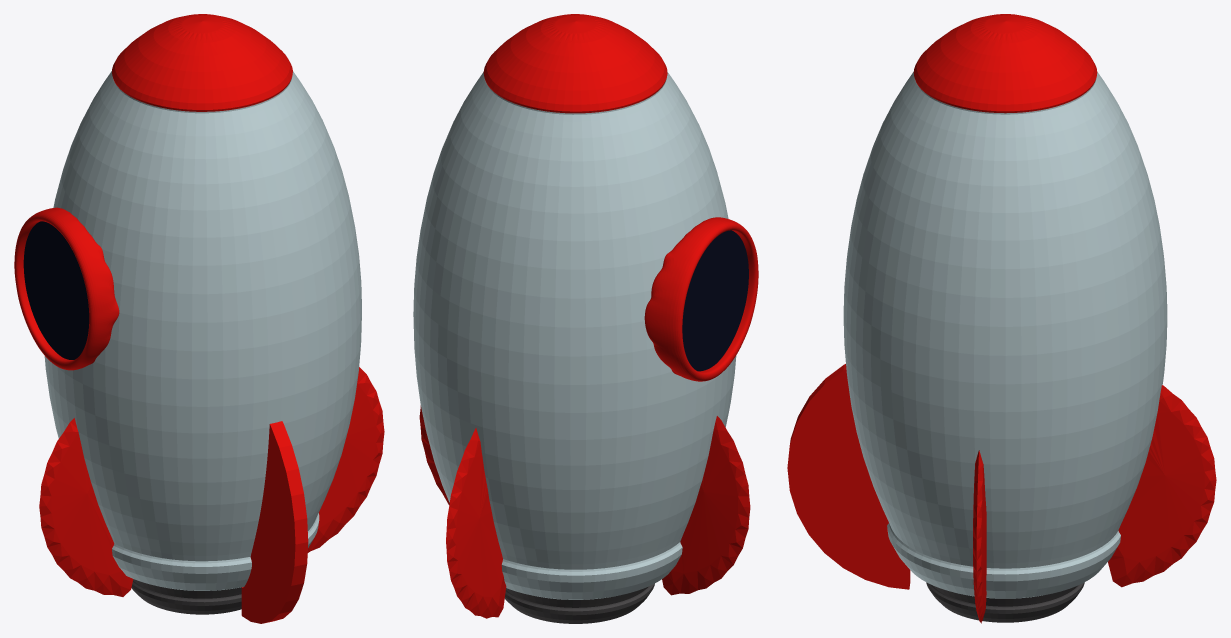
File: rocket.obj
The picture shows the model from 3 angles, left to right: view 1: azimuth 30°, elevation 25°; view 2: azimuth 150°, elevation 25°; view 3: azimuth 270°, elevation 25°; orthographic projection.
Visible parts, largest first — view 1: corpo_Cilindro, asa1_Cilindro.001, asa3_Cilindro.003, Cilindro_Cilindro.007, janela_Cilindro.006, asa4_Cilindro.004, motor_Cilindro.005; view 2: corpo_Cilindro, asa3_Cilindro.003, janela_Cilindro.006, asa2_Cilindro.002, Cilindro_Cilindro.007, motor_Cilindro.005, asa4_Cilindro.004; view 3: corpo_Cilindro, asa1_Cilindro.001, asa2_Cilindro.002, motor_Cilindro.005, asa4_Cilindro.004.
Part boxes in pixels (x1,y1,x2,y2): corpo_Cilindro: (44, 14, 361, 590); asa1_Cilindro.001: (241, 421, 308, 623); asa3_Cilindro.003: (39, 418, 133, 596); Cilindro_Cilindro.007: (23, 221, 89, 359); janela_Cilindro.006: (14, 207, 119, 370); asa4_Cilindro.004: (307, 367, 384, 552); motor_Cilindro.005: (131, 579, 241, 614); corpo_Cilindro: (413, 14, 736, 599); asa3_Cilindro.003: (662, 416, 750, 595); janela_Cilindro.006: (644, 217, 758, 381); asa2_Cilindro.002: (446, 428, 506, 618); Cilindro_Cilindro.007: (682, 230, 748, 371); motor_Cilindro.005: (504, 583, 654, 623); asa4_Cilindro.004: (419, 405, 449, 504); corpo_Cilindro: (843, 14, 1167, 598); asa1_Cilindro.001: (787, 364, 910, 589); asa2_Cilindro.002: (1108, 385, 1216, 587); motor_Cilindro.005: (926, 582, 1084, 622); asa4_Cilindro.004: (973, 450, 986, 623).
Size of the model in its own units: 2.39 by 3.86 by 2.62.
